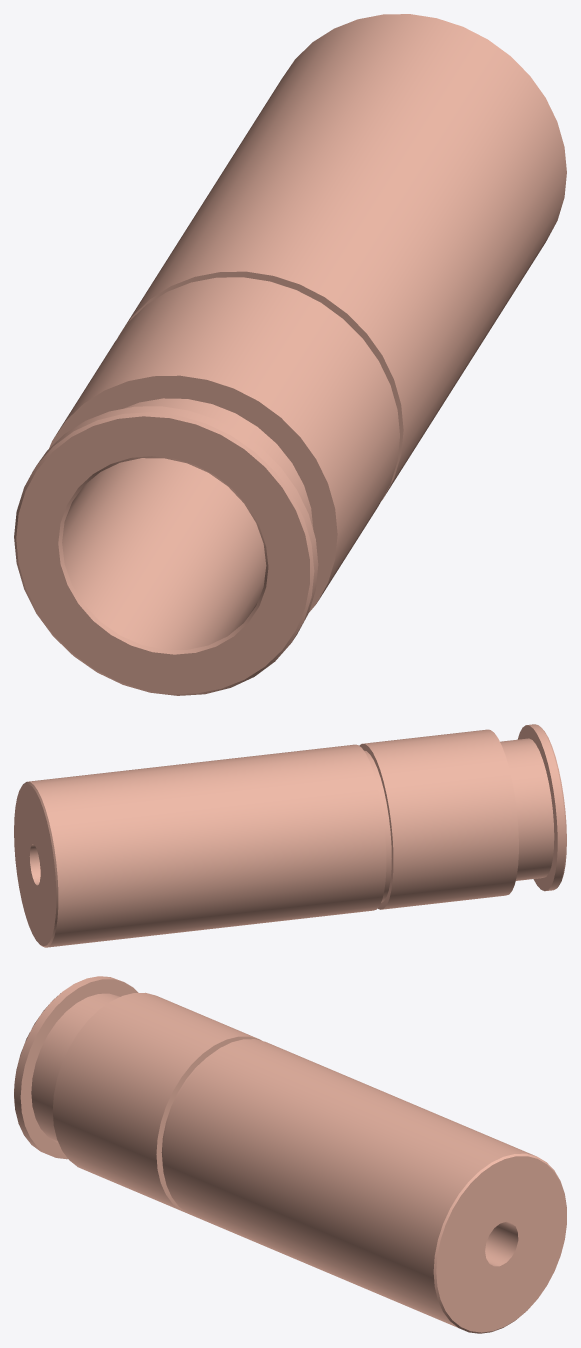
The model's file is 10.3_truba-kontakta-tk-1250.glb.
3 views of the same model, one above another, from view 1: azimuth 30°, elevation 25°; view 2: azimuth 150°, elevation 25°; view 3: azimuth 270°, elevation 25° (orthographic). The views are drawn at different scales.
Parts seen in each view (by area): view 1: 10.3_truba-kontakta-tk-1250; view 2: 10.3_truba-kontakta-tk-1250; view 3: 10.3_truba-kontakta-tk-1250.
Part boxes in pixels (x1,y1,x2,y2): 10.3_truba-kontakta-tk-1250: [14, 14, 566, 695]; 10.3_truba-kontakta-tk-1250: [14, 724, 566, 947]; 10.3_truba-kontakta-tk-1250: [14, 976, 566, 1333].
Bounding box in the file's own units: 146 × 49.95 × 146.
